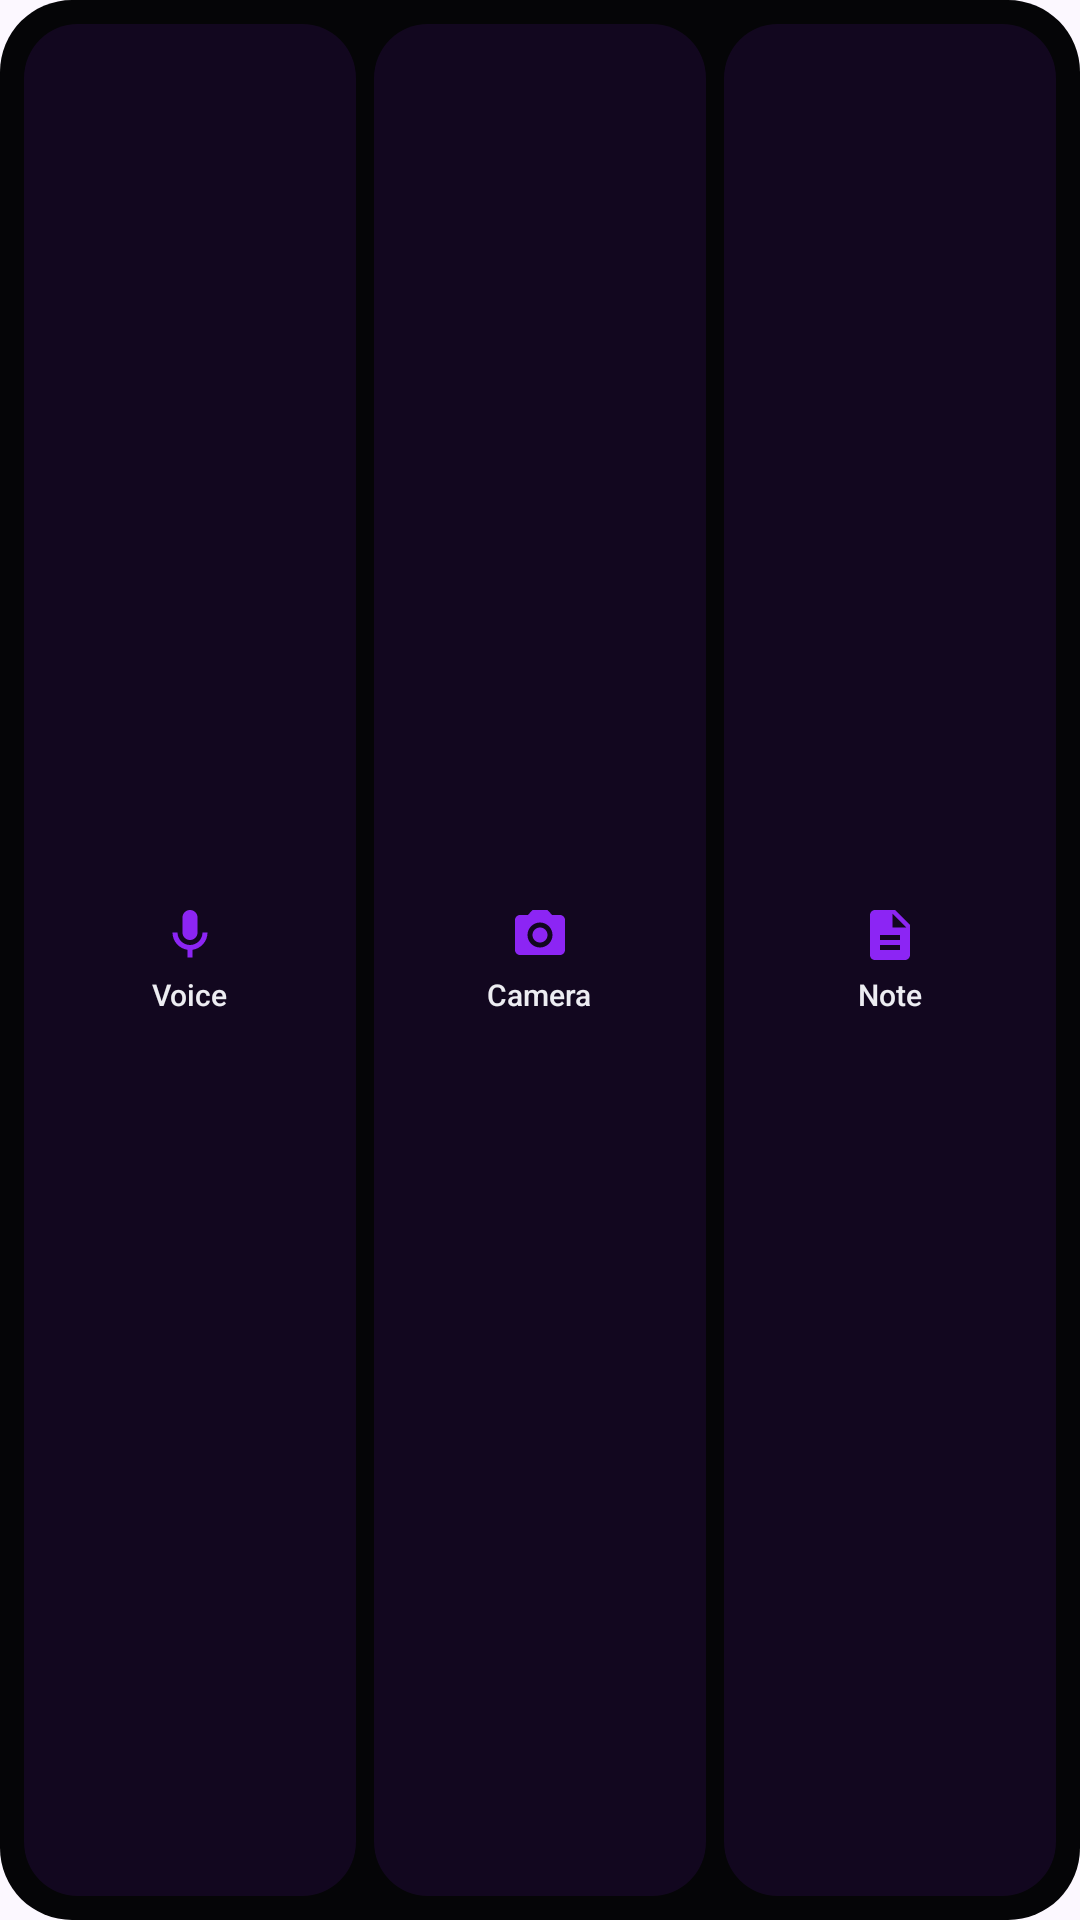

Where to tap for icons on this 1080px x 1920px app screen, as (x,y):
Record Audio: (190,934)
